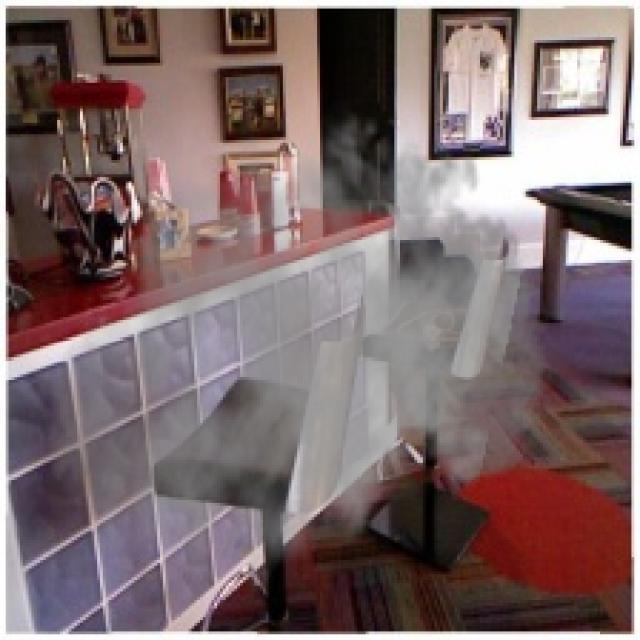Smoke: (43, 94, 560, 612)
